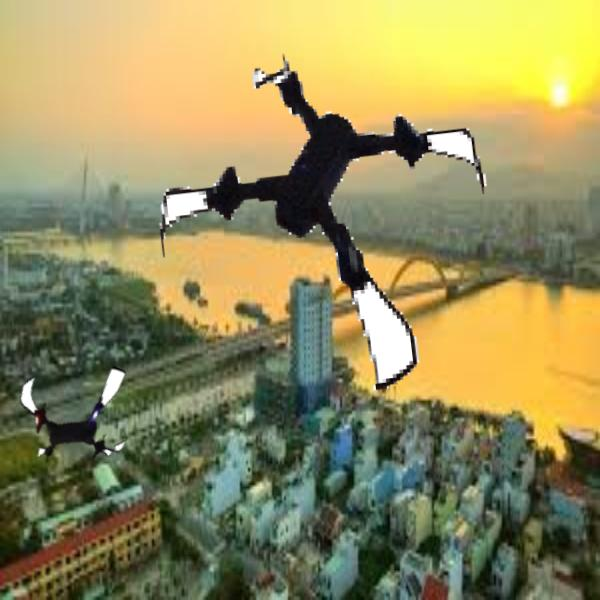drone: (146, 43, 511, 408), (13, 355, 137, 479)
